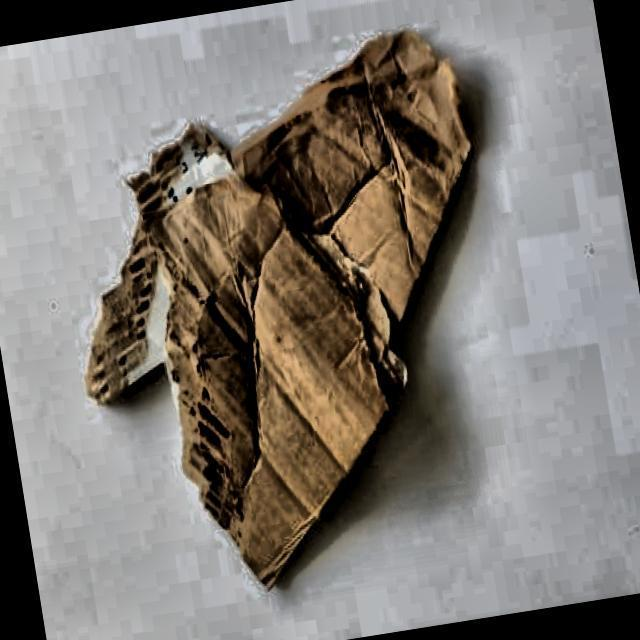cardboard: (38, 18, 536, 614)
